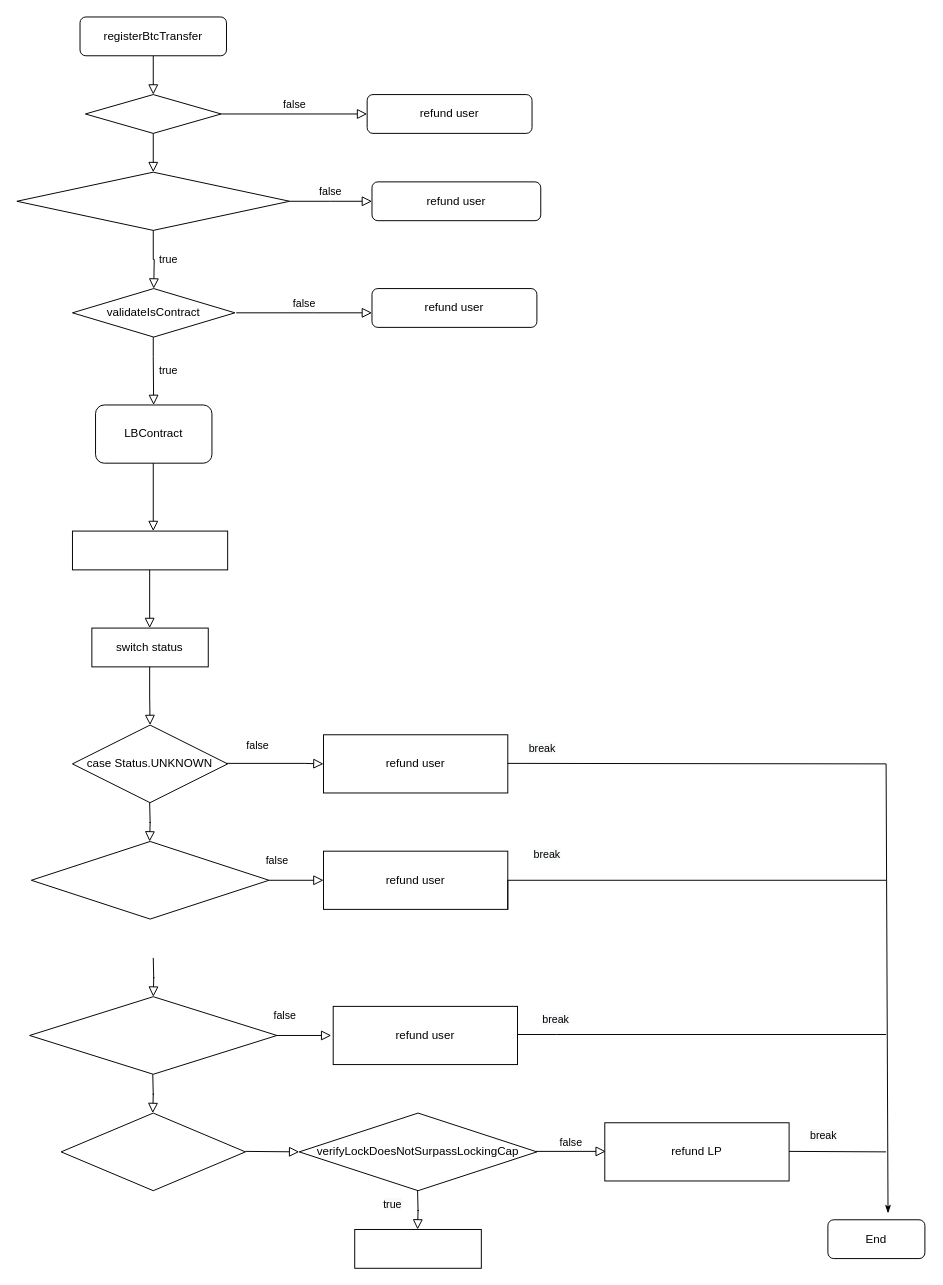
This 943x1285 diagram has some shape labels left out. Each missing label, with the box of its shape:
case Status.ALREADY_PROCESSED: (30, 841, 269, 919)
case Status.FAILED_TO_PROCESS: (29, 996, 277, 1074)
case Status.OK: (60, 1112, 245, 1191)
getTransferStatus: (71, 530, 228, 570)
transfer to contract: (354, 1229, 481, 1268)
validateOneUseFederationAddress: (16, 171, 290, 230)
validateTx: (84, 94, 221, 133)
